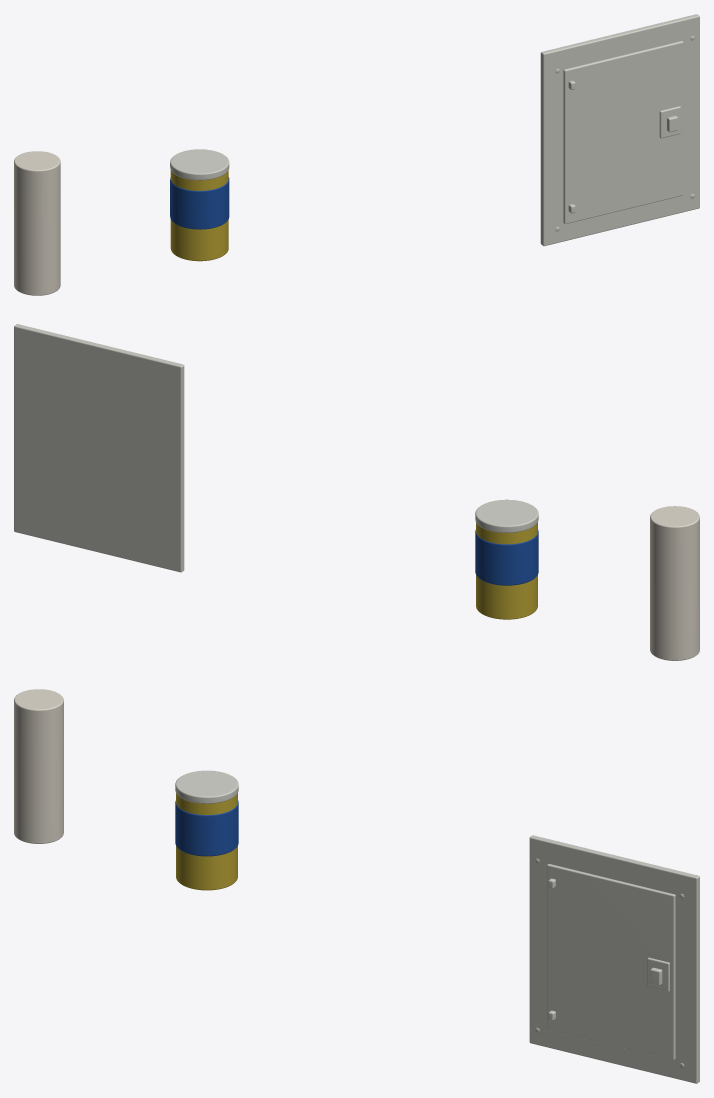
File: model-0f902a6fcf9e.glb
The picture shows the model from 3 angles, top to bottom: view 1: azimuth 30°, elevation 25°; view 2: azimuth 150°, elevation 25°; view 3: azimuth 330°, elevation 25°; orthographic projection. The views are drawn at different scales.
Parts seen in each view (by area): view 1: observed_electrical_panel_inset_door, observed_electrical_panel_outer_plate, observed_fridge_paper_towel_roll, observed_fridge_wipes_canister_body, observed_fridge_wipes_canister_blue_label, observed_fridge_wipes_canister_white_lid, observed_panel_latch_frame; view 2: observed_electrical_panel_outer_plate, observed_fridge_paper_towel_roll, observed_fridge_wipes_canister_body, observed_fridge_wipes_canister_blue_label, observed_fridge_wipes_canister_white_lid; view 3: observed_electrical_panel_inset_door, observed_electrical_panel_outer_plate, observed_fridge_paper_towel_roll, observed_fridge_wipes_canister_body, observed_fridge_wipes_canister_blue_label, observed_fridge_wipes_canister_white_lid.
Part boxes in pixels (x1,y1,x2,y2): observed_electrical_panel_inset_door: [563, 41, 683, 224]; observed_electrical_panel_outer_plate: [540, 14, 699, 246]; observed_fridge_paper_towel_roll: [14, 151, 60, 295]; observed_fridge_wipes_canister_body: [170, 170, 228, 261]; observed_fridge_wipes_canister_blue_label: [170, 177, 229, 229]; observed_fridge_wipes_canister_white_lid: [170, 149, 229, 180]; observed_panel_latch_frame: [659, 106, 680, 138]; observed_electrical_panel_outer_plate: [14, 324, 184, 572]; observed_fridge_paper_towel_roll: [650, 506, 699, 660]; observed_fridge_wipes_canister_body: [476, 522, 537, 619]; observed_fridge_wipes_canister_blue_label: [475, 530, 538, 585]; observed_fridge_wipes_canister_white_lid: [475, 499, 538, 532]; observed_electrical_panel_inset_door: [547, 864, 675, 1060]; observed_electrical_panel_outer_plate: [529, 835, 699, 1083]; observed_fridge_paper_towel_roll: [14, 689, 63, 843]; observed_fridge_wipes_canister_body: [176, 793, 237, 890]; observed_fridge_wipes_canister_blue_label: [175, 800, 238, 856]; observed_fridge_wipes_canister_white_lid: [175, 770, 238, 803].
Bounding box in the file's own units: 1.21 × 0.3373 × 0.1355.
